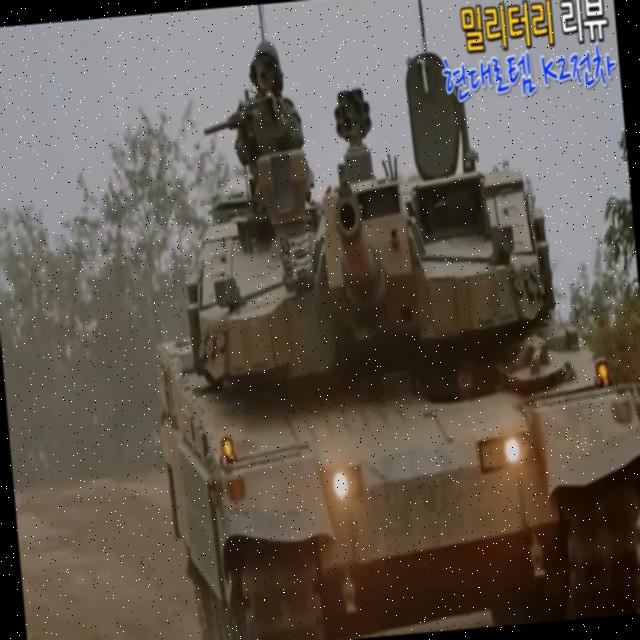korea tank: (130, 8, 640, 640)
